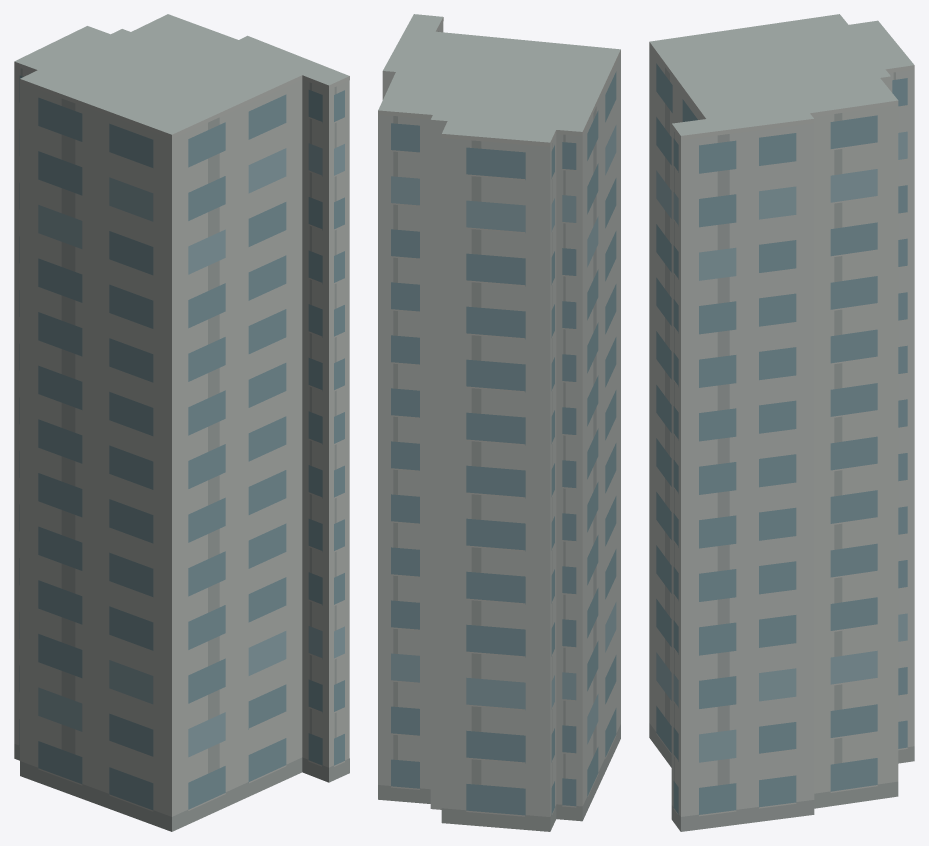
File: residential-93b0d5c8-0ef4-4f0f-a286-aea695a18c06.glb
3 renders of one model, left to right at view 1: azimuth 30°, elevation 25°; view 2: azimuth 150°, elevation 25°; view 3: azimuth 270°, elevation 25°, orthographic.
Visible parts, largest first — view 1: residential-93b0d5c8-0ef4-4f0f-a286-aea695a18c06.tmp; view 2: residential-93b0d5c8-0ef4-4f0f-a286-aea695a18c06.tmp; view 3: residential-93b0d5c8-0ef4-4f0f-a286-aea695a18c06.tmp.
Part boxes in pixels (x1,y1,x2,y2): residential-93b0d5c8-0ef4-4f0f-a286-aea695a18c06.tmp: (14, 14, 349, 831); residential-93b0d5c8-0ef4-4f0f-a286-aea695a18c06.tmp: (378, 14, 620, 831); residential-93b0d5c8-0ef4-4f0f-a286-aea695a18c06.tmp: (649, 14, 914, 831).
Size of the model in its own units: 14.9 by 39.65 by 13.7.
